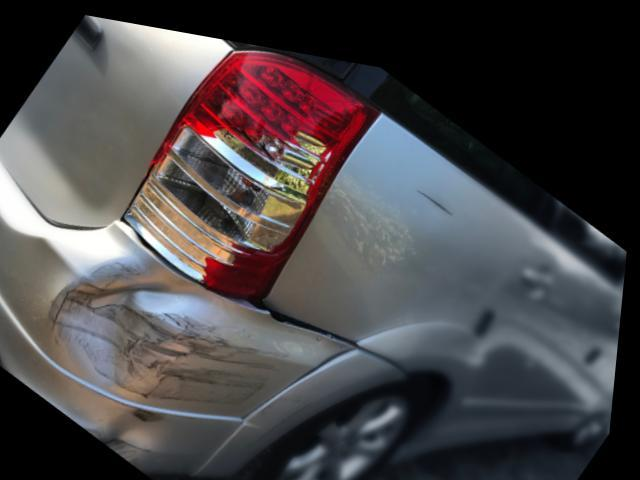dent: (61, 254, 231, 385), (96, 400, 172, 456)
lamp broken: (124, 39, 383, 296)
scratch: (138, 324, 283, 402)
